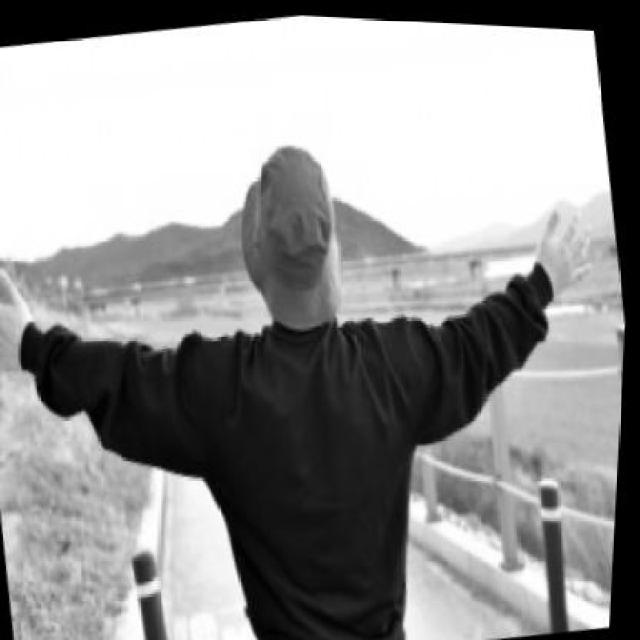hat: (222, 127, 360, 336)
